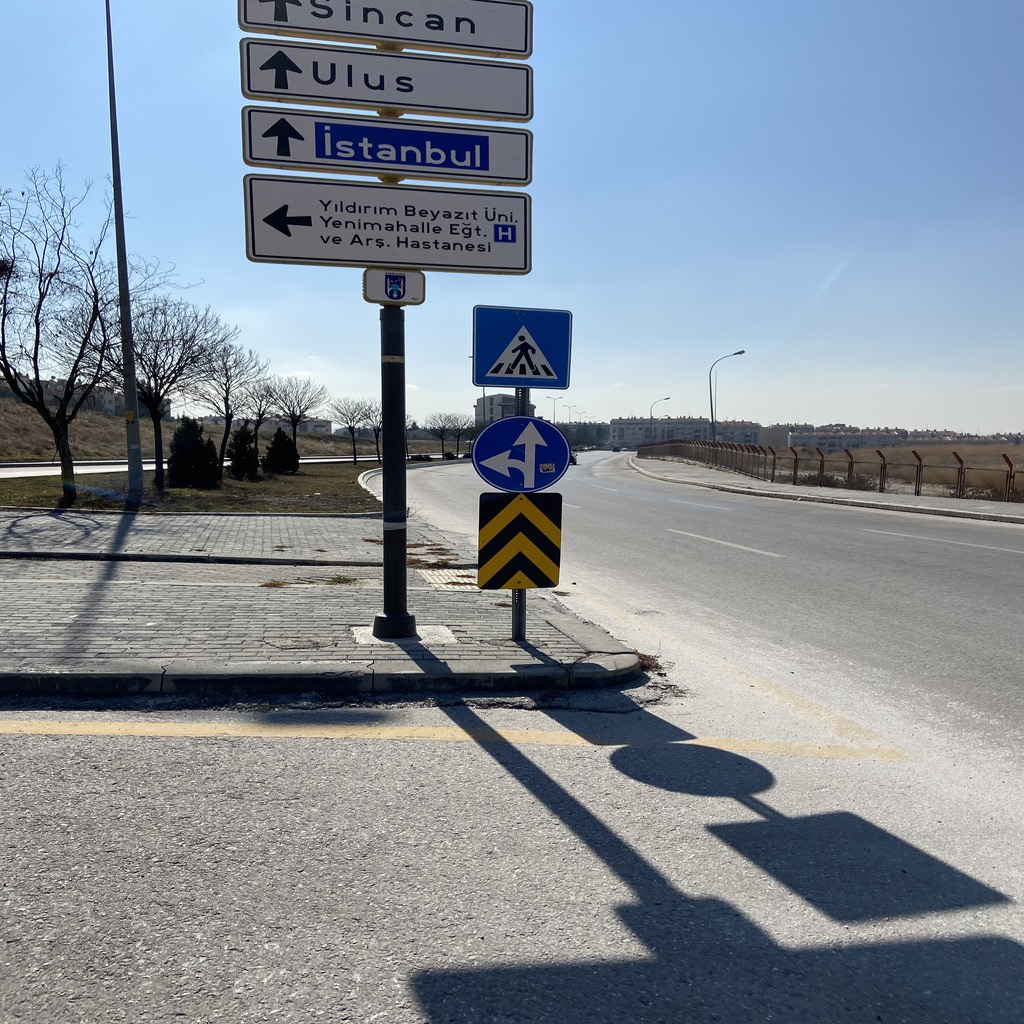Yaya Gecidi: (469, 299, 571, 392)
ileri ve Sola Mecburi Don: (468, 414, 574, 488)
